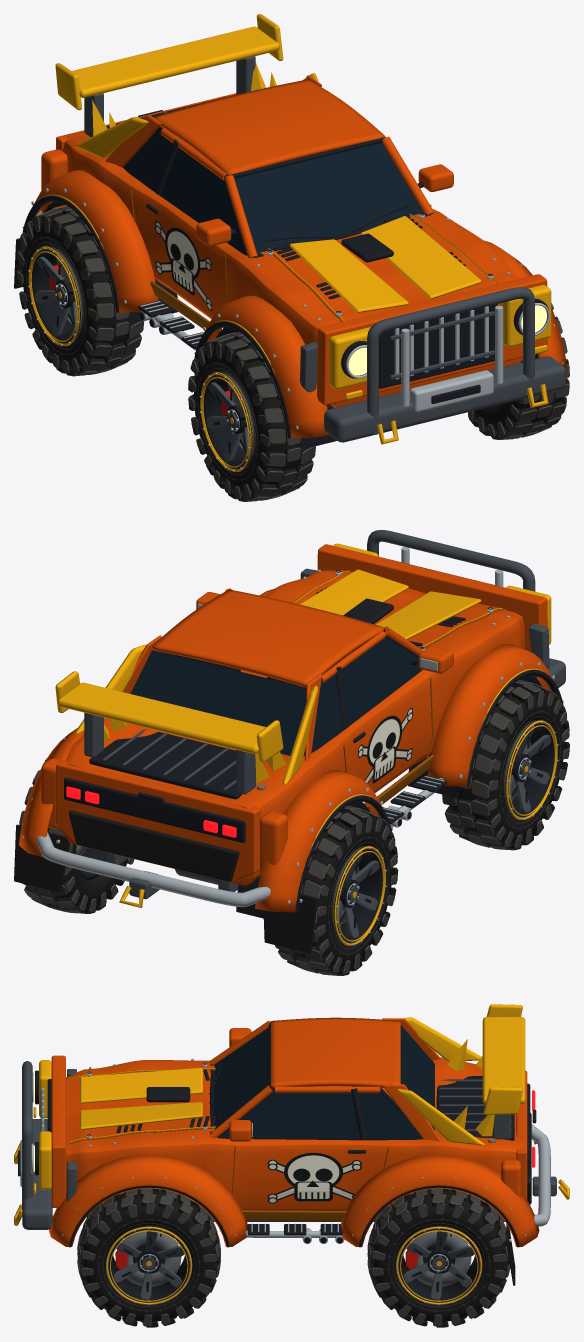
Rendered from 13_orange_skull.glb.
3 renders of one model, top to bottom at view 1: azimuth 30°, elevation 25°; view 2: azimuth 150°, elevation 25°; view 3: azimuth 270°, elevation 25°, orthographic. The views are drawn at different scales.
Parts seen in each view (by area): view 1: Buggy_Static_Body, Wheel_RL_Geometry, Wheel_FL_Geometry, Wheel_FR_Geometry; view 2: Buggy_Static_Body, Wheel_FL_Geometry, Wheel_RL_Geometry, Wheel_RR_Geometry; view 3: Buggy_Static_Body, Wheel_FR_Geometry, Wheel_RR_Geometry.
Boxes of the visible parts, x1=… form: Buggy_Static_Body: x1=14, y1=14, x2=567, y2=449; Wheel_RL_Geometry: x1=16, y1=206, x2=144, y2=376; Wheel_FL_Geometry: x1=188, y1=331, x2=315, y2=501; Wheel_FR_Geometry: x1=468, y1=303, x2=569, y2=439; Buggy_Static_Body: x1=14, y1=530, x2=565, y2=953; Wheel_FL_Geometry: x1=442, y1=680, x2=569, y2=850; Wheel_RL_Geometry: x1=275, y1=805, x2=398, y2=975; Wheel_RR_Geometry: x1=19, y1=758, x2=134, y2=913; Buggy_Static_Body: x1=14, y1=1004, x2=569, y2=1285; Wheel_FR_Geometry: x1=77, y1=1188, x2=220, y2=1327; Wheel_RR_Geometry: x1=367, y1=1188, x2=510, y2=1327.
Bounding box in the file's own units: 2.99 × 2.42 × 5.48.
21 materials, 4 textured.
